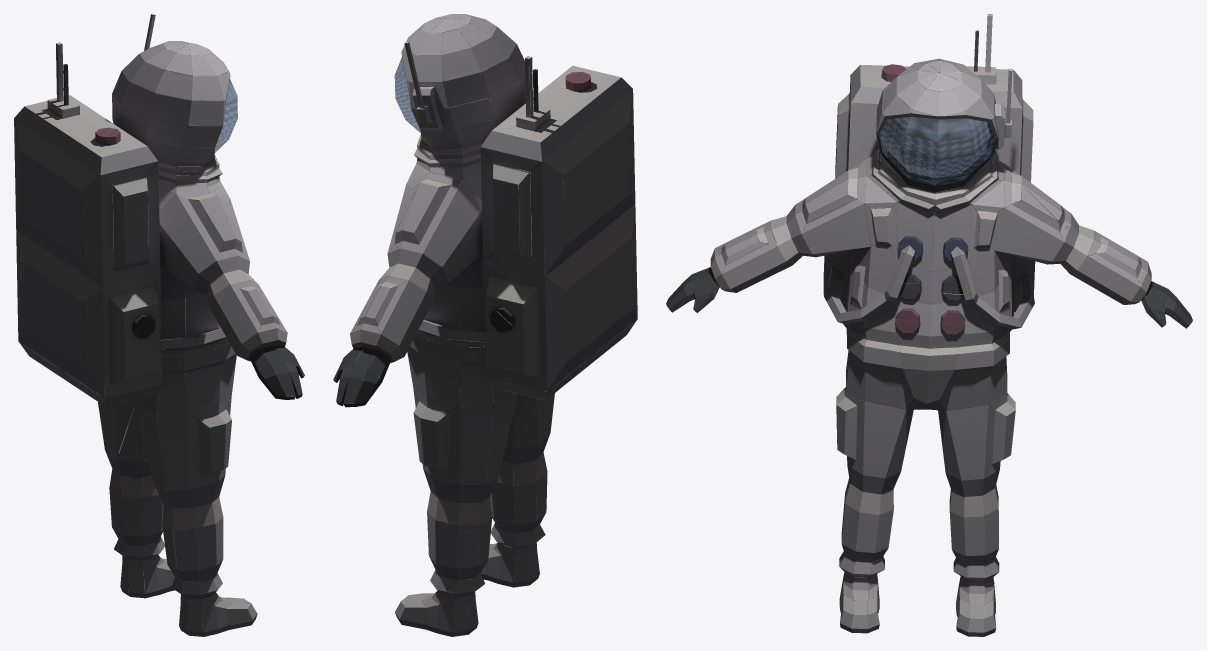
Rendered from astronaut1.glb.
3 views of the same model, side by side, from view 1: azimuth 30°, elevation 25°; view 2: azimuth 150°, elevation 25°; view 3: azimuth 270°, elevation 25° (orthographic). The views are drawn at different scales.
Parts seen in each view (by area): view 1: Suit, Glass; view 2: Suit, Glass; view 3: Suit, Glass, Helmet.
Boxes of the visible parts, bbox=[...] form: Suit: bbox=[14, 14, 304, 636]; Glass: bbox=[214, 79, 237, 152]; Suit: bbox=[333, 14, 637, 636]; Glass: bbox=[394, 57, 420, 132]; Suit: bbox=[666, 14, 1192, 636]; Glass: bbox=[879, 116, 995, 185]; Helmet: bbox=[880, 116, 989, 177].
Bounding box in the file's own units: 0.7505 × 2.22 × 1.89.
Materials: 3 (1 with a texture image).
